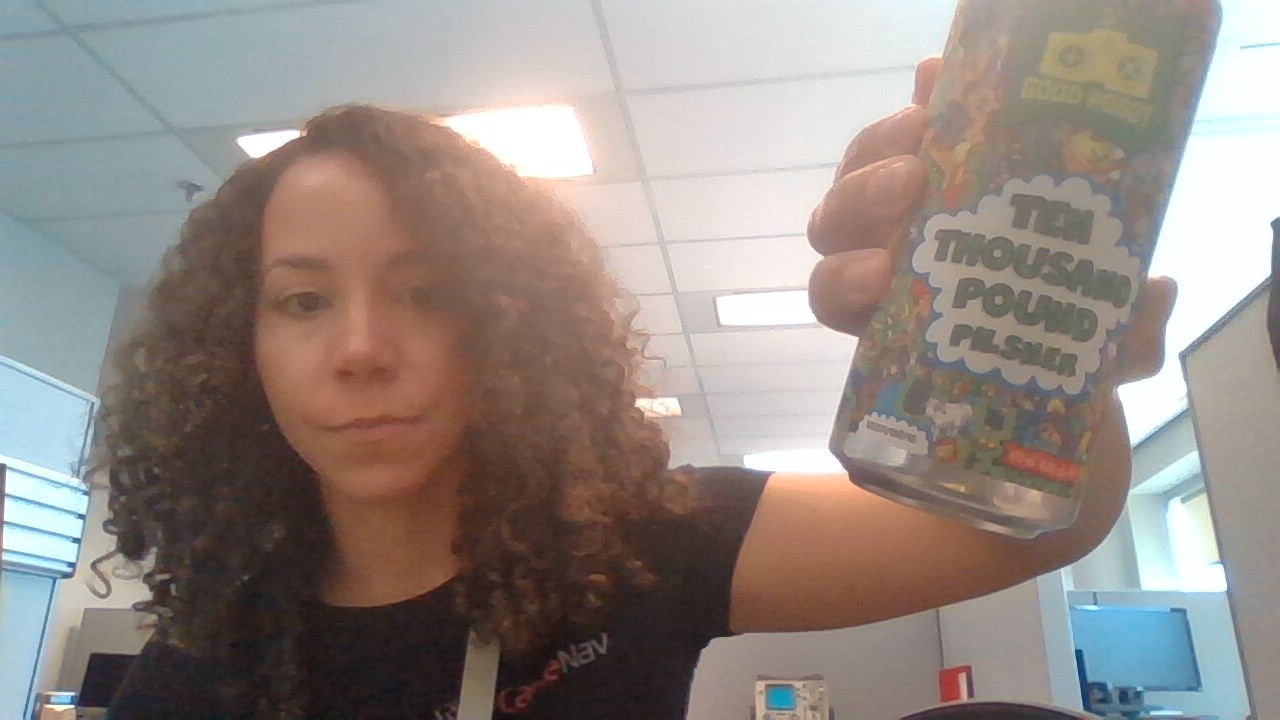Good Robot: (1036, 9, 1166, 104)
